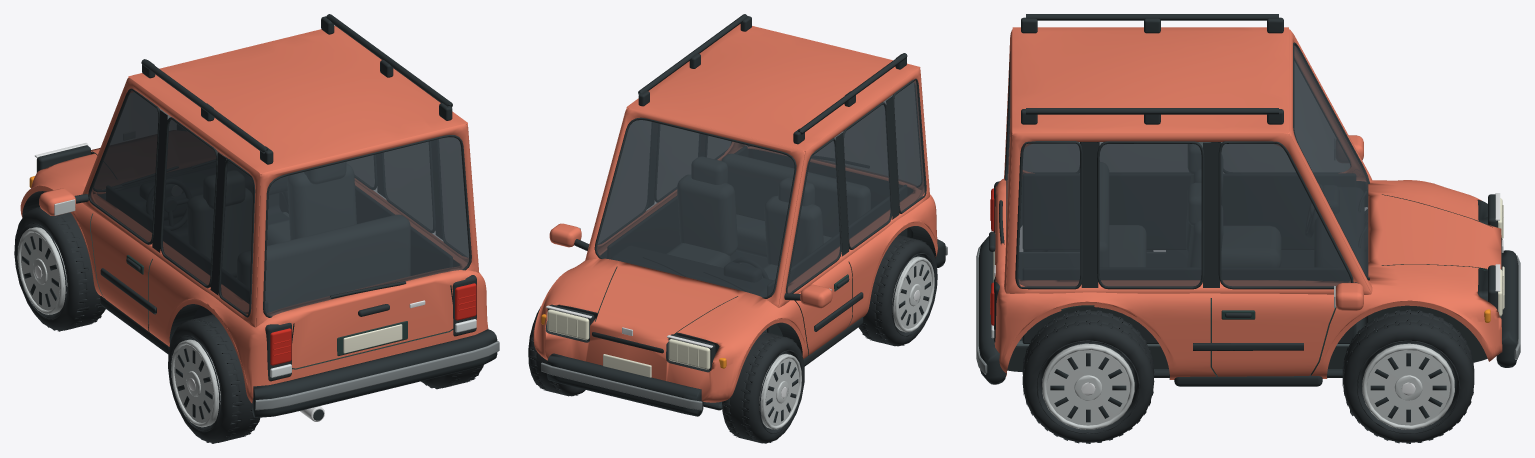
File: tallboy_lod1.fbx
3 renders of one model, left to right at view 1: azimuth 30°, elevation 25°; view 2: azimuth 150°, elevation 25°; view 3: azimuth 270°, elevation 25°, orthographic. The views are drawn at different scales.
Visible parts, largest first — view 1: Body, Wheel_RL_Mesh, Wheel_FL_Mesh, Wheel_RR_Mesh; view 2: Body, Wheel_FL_Mesh, Wheel_RL_Mesh, Wheel_FR_Mesh; view 3: Body, Wheel_FR_Mesh, Wheel_RR_Mesh.
Boxes of the visible parts, box(x1,y1,x2,y2) form: Body: box(20, 14, 499, 421); Wheel_RL_Mesh: box(168, 314, 260, 443); Wheel_FL_Mesh: box(14, 207, 105, 331); Wheel_RR_Mesh: box(421, 365, 483, 389); Body: box(533, 14, 947, 416); Wheel_FL_Mesh: box(722, 332, 804, 443); Wheel_RL_Mesh: box(858, 235, 937, 346); Wheel_FR_Mesh: box(528, 306, 585, 396); Body: box(976, 14, 1520, 386); Wheel_FR_Mesh: box(1342, 309, 1474, 443); Wheel_RR_Mesh: box(1022, 309, 1154, 443).
Size of the model in its own units: 227 by 208 by 323.
